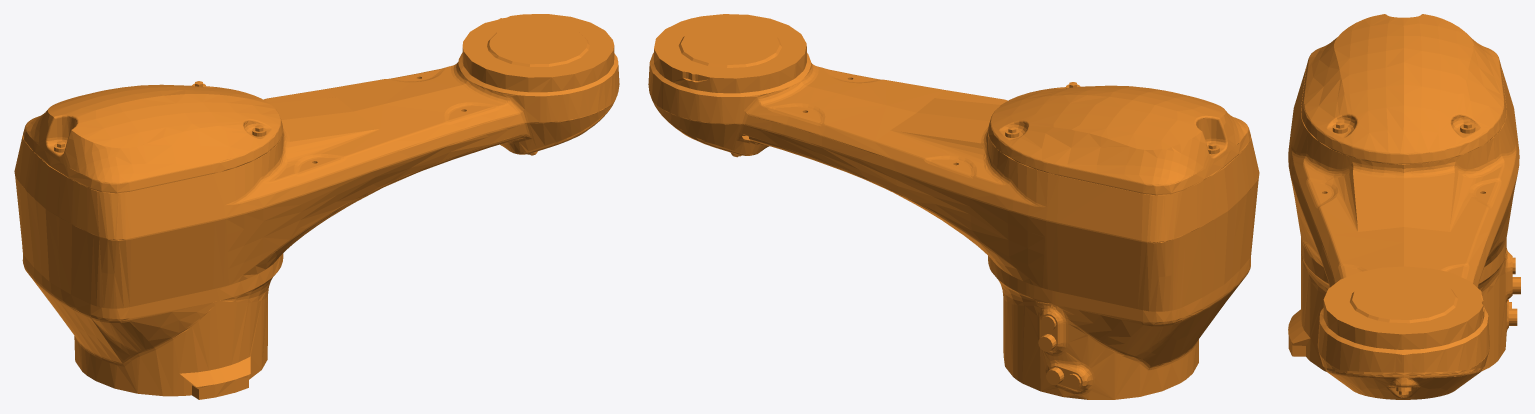
3 renders of one model, left to right at view 1: azimuth 30°, elevation 25°; view 2: azimuth 150°, elevation 25°; view 3: azimuth 270°, elevation 25°, orthographic. The views are drawn at different scales.
Parts seen in each view (by area): view 1: 02; view 2: 02; view 3: 02.
Boxes of the visible parts, <box> form: 02: <box>14,14,619,399</box>; 02: <box>648,14,1259,399</box>; 02: <box>1288,14,1520,399</box>.
Size of the model in its own units: 584 by 262 by 197.
